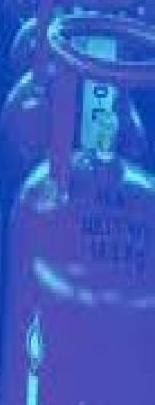cylinder: (1, 1, 155, 405)
